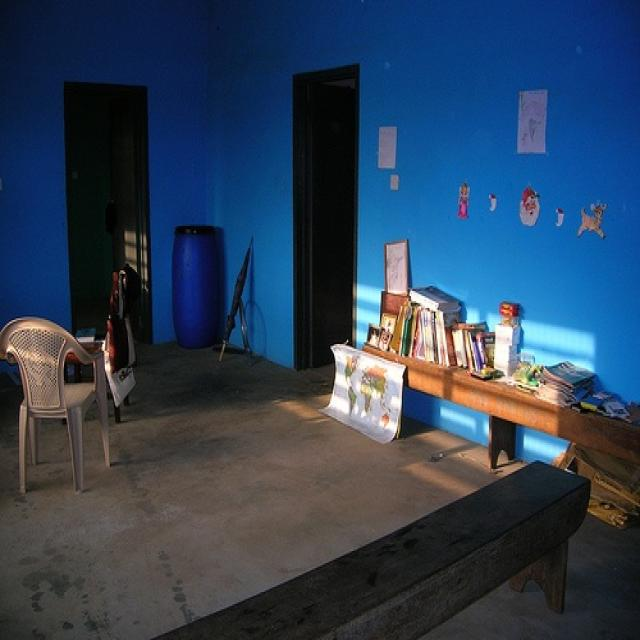chair: (3, 316, 110, 493)
